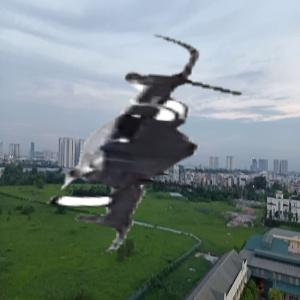drone: (14, 27, 264, 277)
